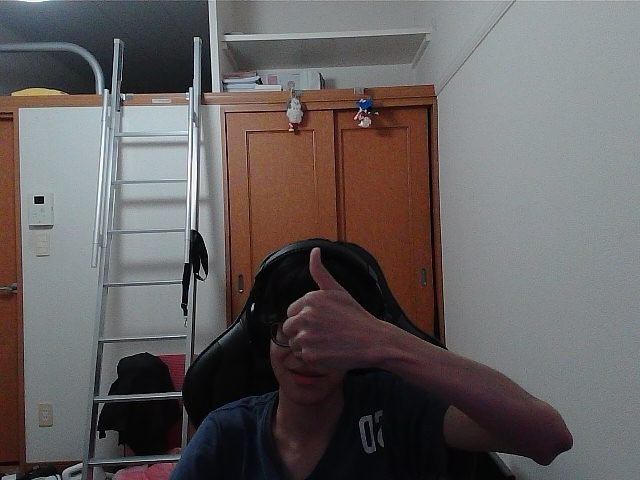thumb_up: (288, 253, 376, 361)
